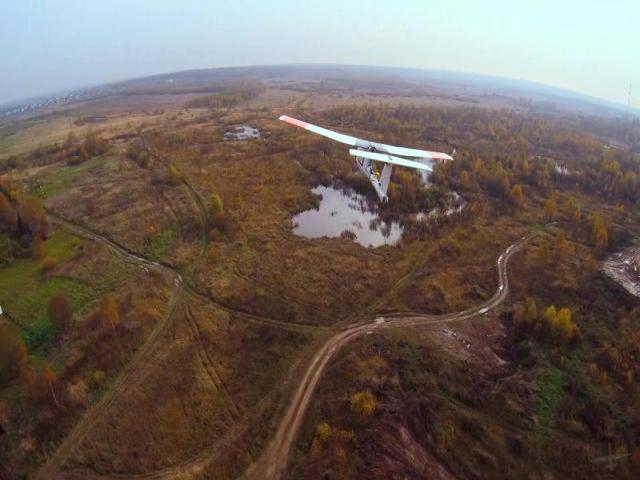hedef: (268, 104, 467, 212)
